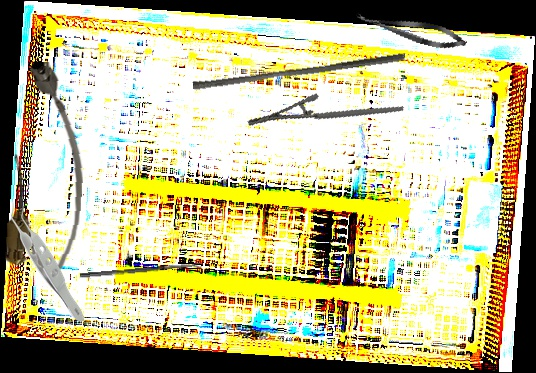Cannula: (4, 60, 91, 274)
Micro Scissor: (353, 5, 469, 55)
Needle Holder: (245, 70, 405, 163)
Pusher: (192, 44, 406, 98)
Surgical Spoon: (80, 262, 202, 279)
Tissue Forceps: (11, 198, 85, 321)
